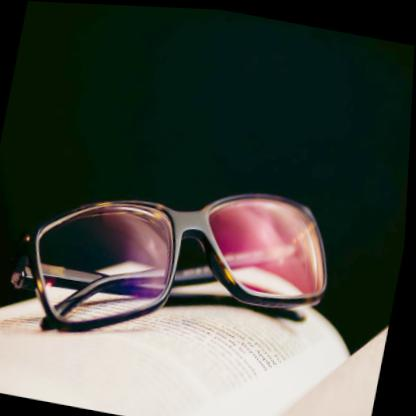Spectacles: (6, 148, 346, 373)
